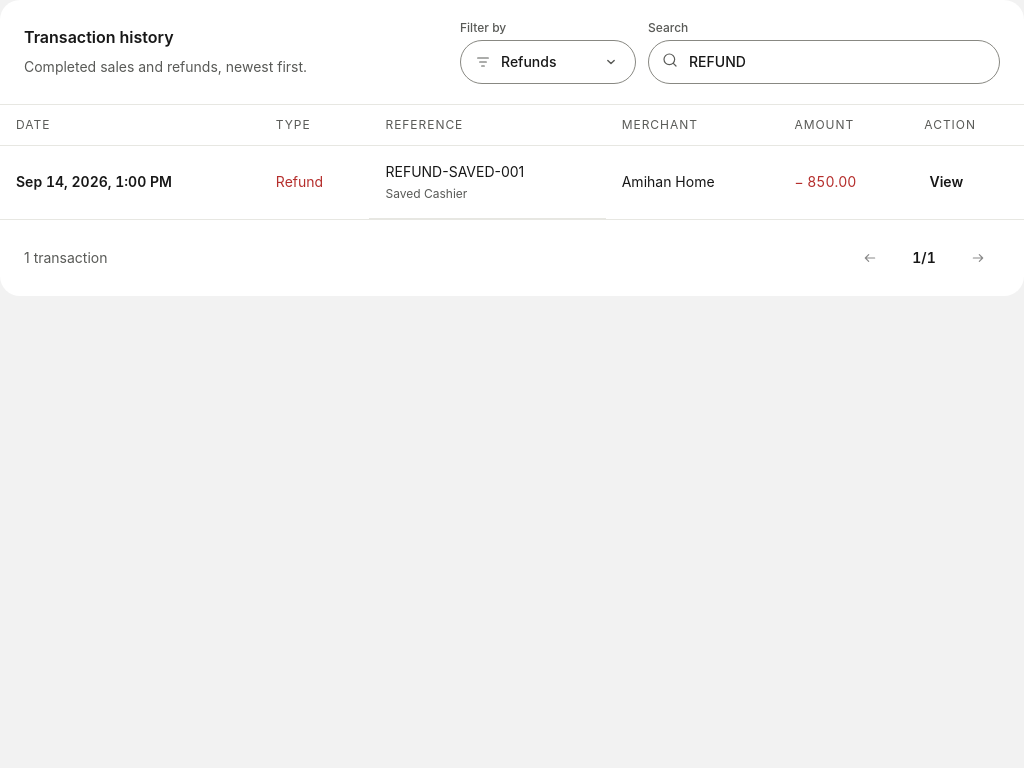
Test: Reports inline refund details › opens the existing details modal without navigation and preserves report filters on close
The image size is (1024, 768).
Click the button "View": (946, 182) [924, 163, 968, 201]
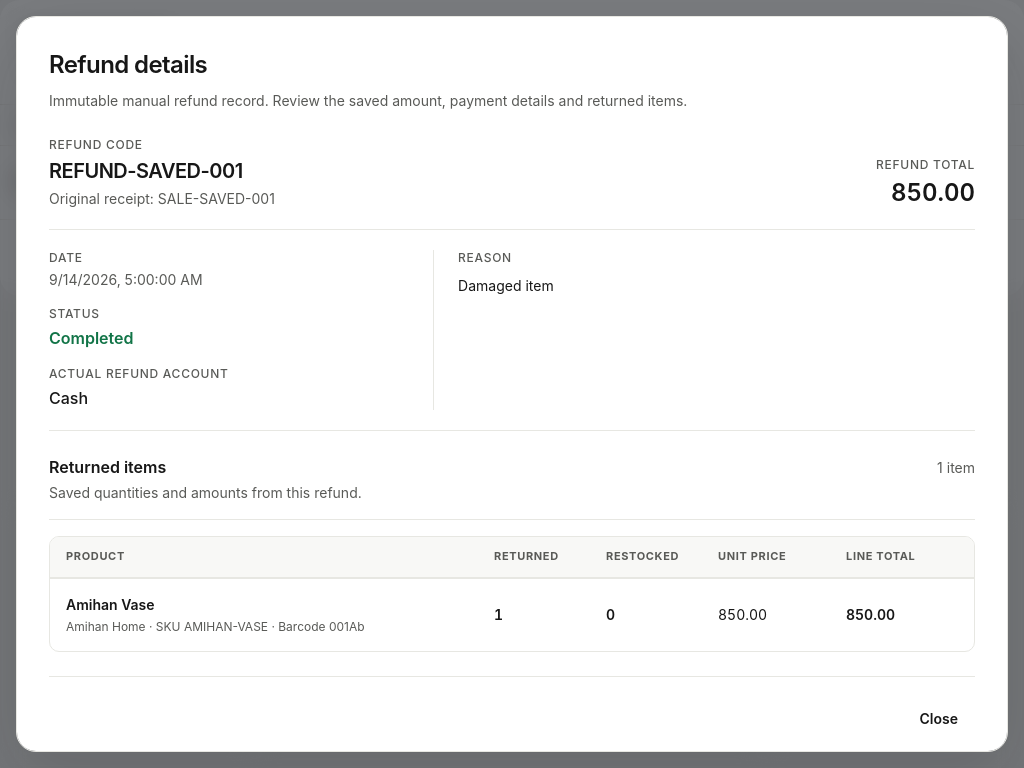
Now the dialog "Refund details" is shown
Now the text "Damaged item" is shown, box [458, 277, 554, 294]
Click the button "Close": (939, 719) [902, 697, 975, 741]
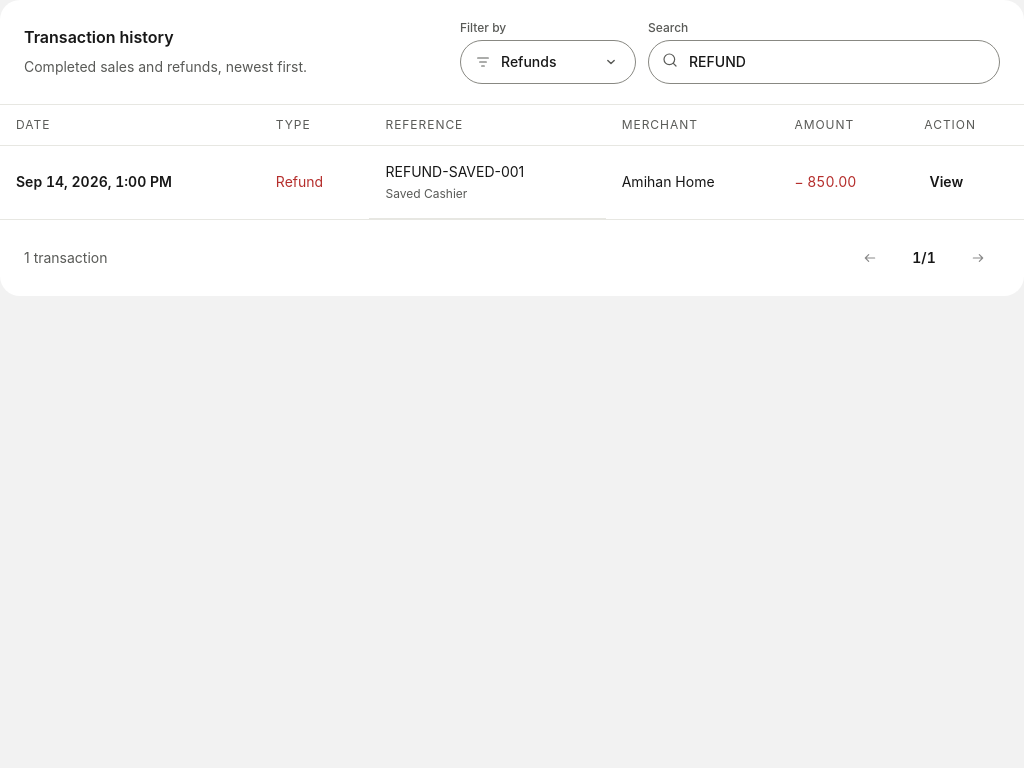
Expected: the search field named "Search transactions" holds "REFUND", [648, 40, 1000, 84]
Now the dialog is gone
